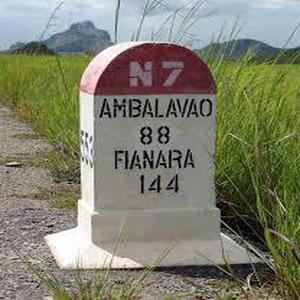kmstone: (67, 39, 228, 262)
